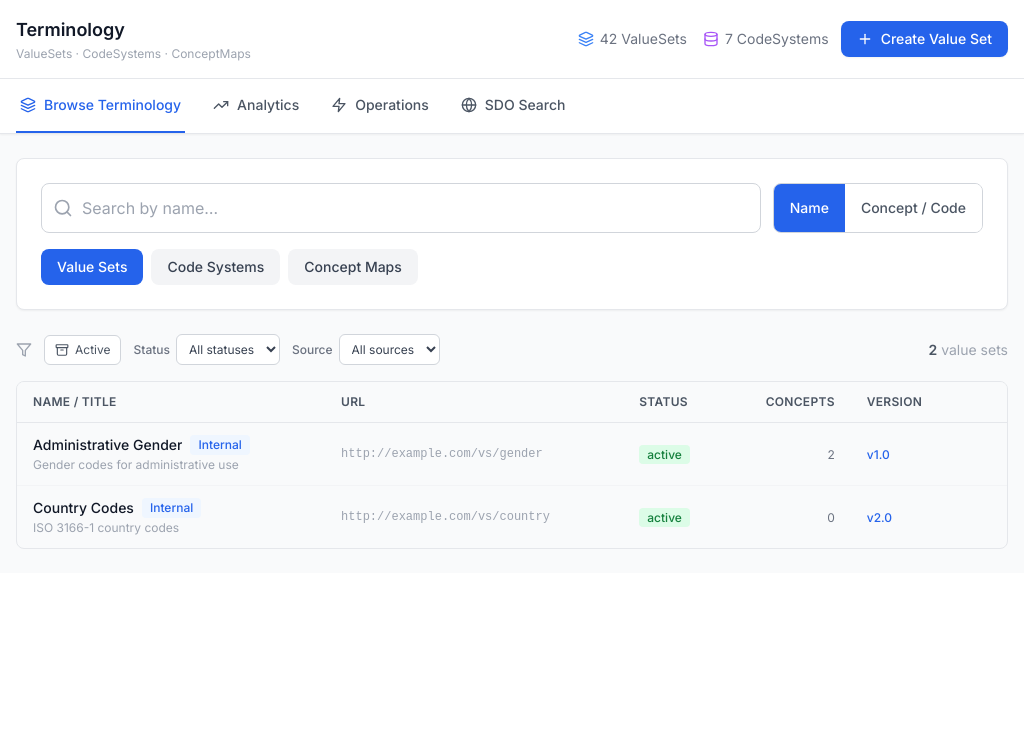
Scenario: TerminologyApp › closes detail panel when × is clicked
Step 1. Click the text "Administrative Gender" → x=108, y=445, box [33,435,182,455]
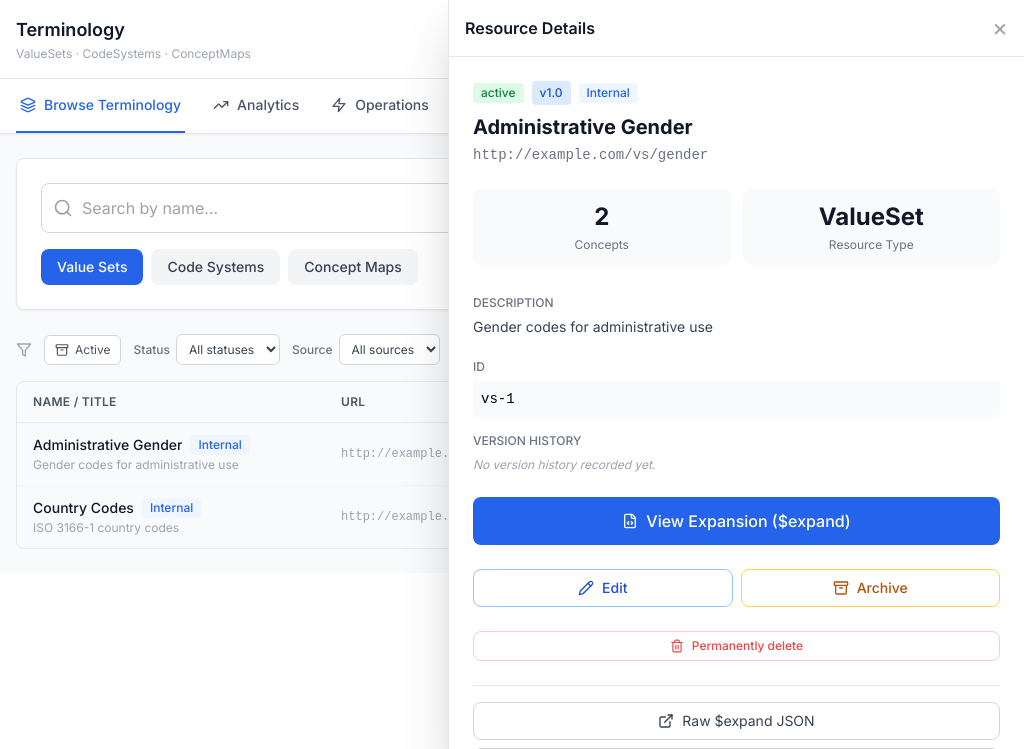
Now the heading "Resource Details" is shown, box [465,16,595,40]
Step 2. Click the button "×" → x=1000, y=28, box [992,16,1008,40]
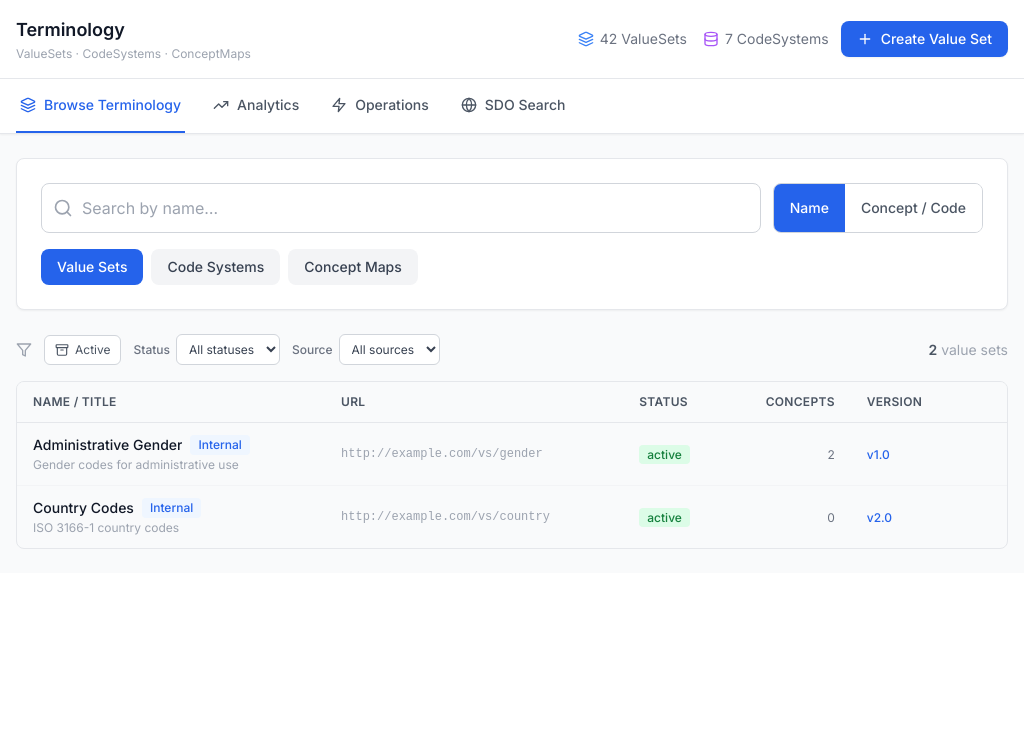
Now the heading "Resource Details" is gone
